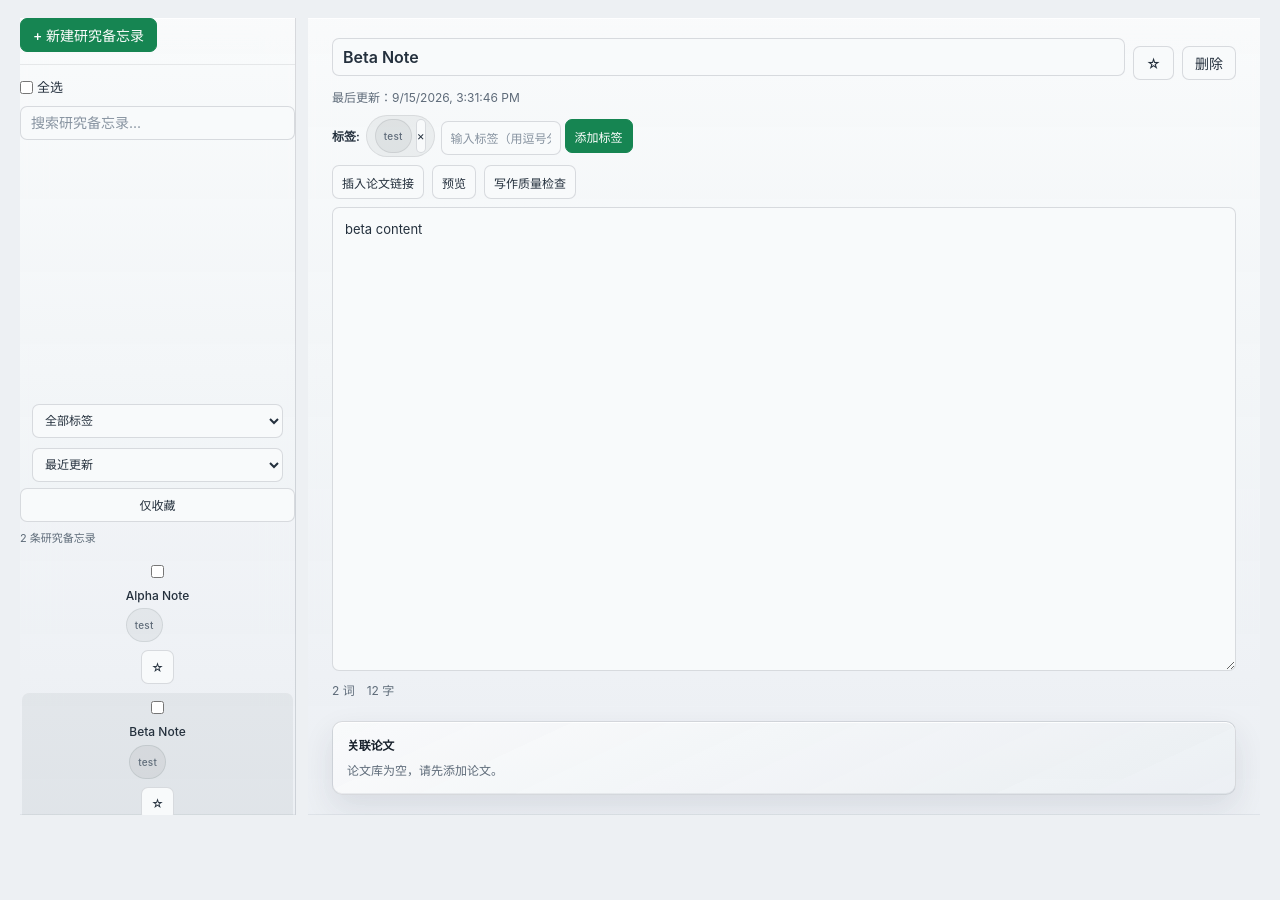
Test: NotesPage › should filter notes by search query
This screenshot has width=1280, height=900.
Check: the text "Alpha Note" is shown, box [126,586,189,605]
Check: the text "Beta Note" is shown, box [129,722,186,742]
Type "Beta" into the field with placeholder "搜索研究备忘录..." at (158, 123), box [20,106,295,140]
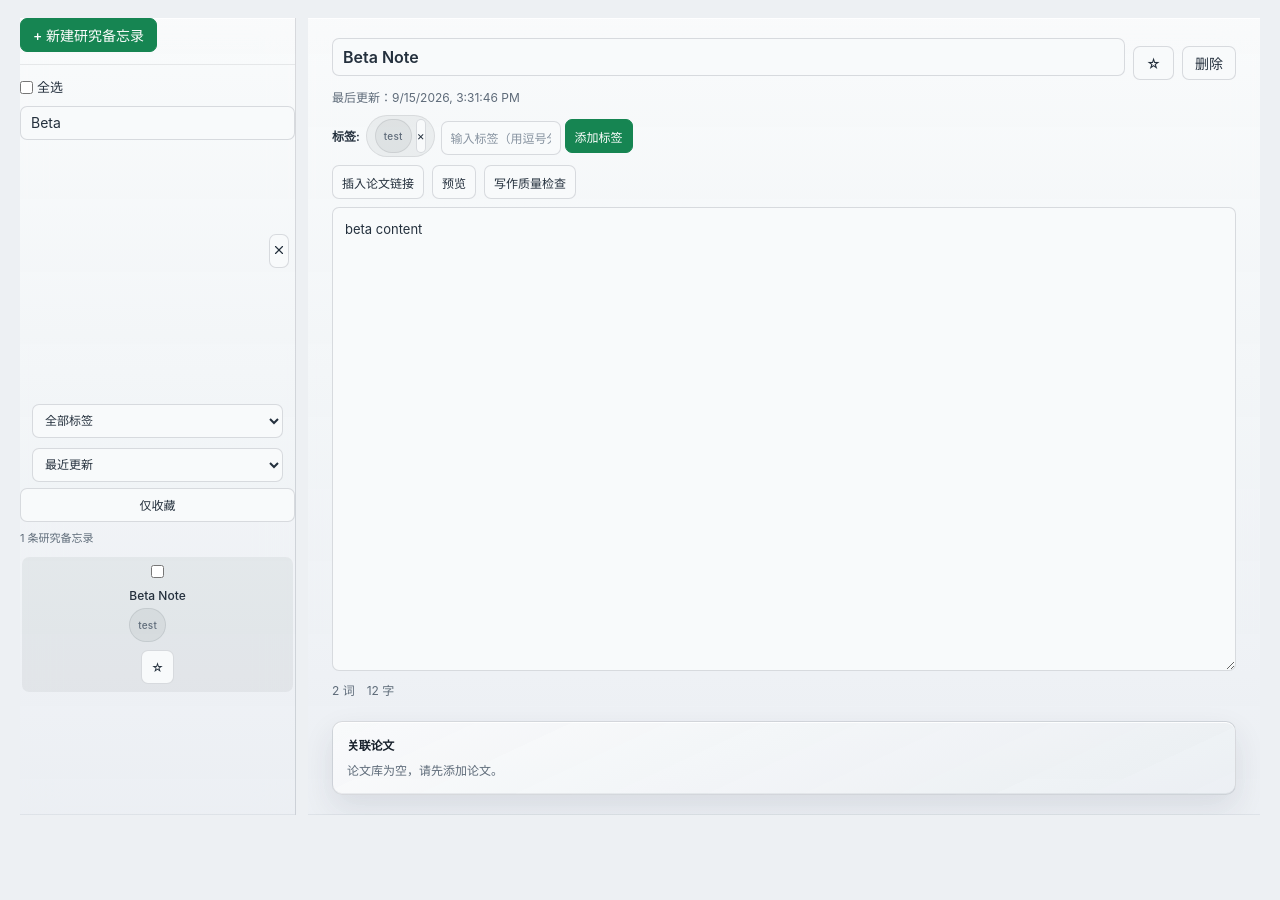
Check: the text "Beta Note" is shown, box [129,586,186,605]
Check: the text "Alpha Note" is gone
Check: the text "1 条研究备忘录" is shown, box [20,531,94,545]
